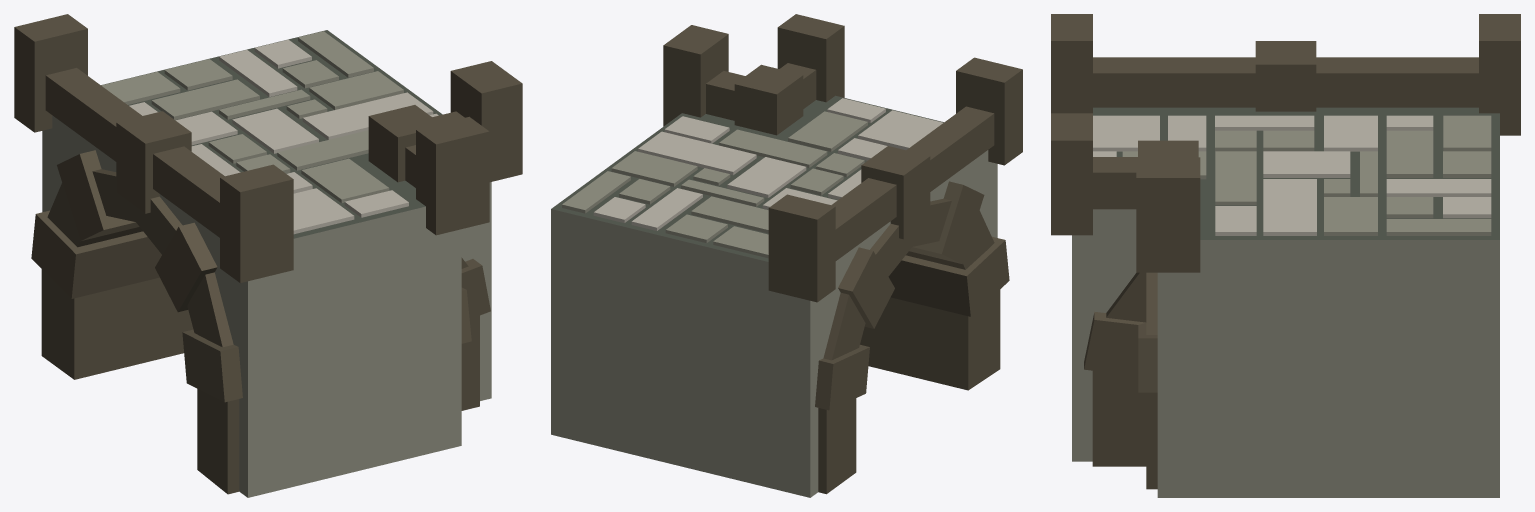
The model's file is ThreeWayQuarterFilled2.fbx.
3 views of the same model, side by side, from view 1: azimuth 30°, elevation 25°; view 2: azimuth 150°, elevation 25°; view 3: azimuth 270°, elevation 25° (orthographic). The views are drawn at different scales.
Parts seen in each view (by area): view 1: Stone Bridge - Three-Way Quarter Filled 2; view 2: Stone Bridge - Three-Way Quarter Filled 2; view 3: Stone Bridge - Three-Way Quarter Filled 2.
Boxes of the visible parts, x1,y1,x2,y2 form: Stone Bridge - Three-Way Quarter Filled 2: [14, 14, 522, 497]; Stone Bridge - Three-Way Quarter Filled 2: [551, 14, 1022, 497]; Stone Bridge - Three-Way Quarter Filled 2: [1051, 14, 1520, 497].
Size of the model in its own units: 90.87 by 85.16 by 110.
